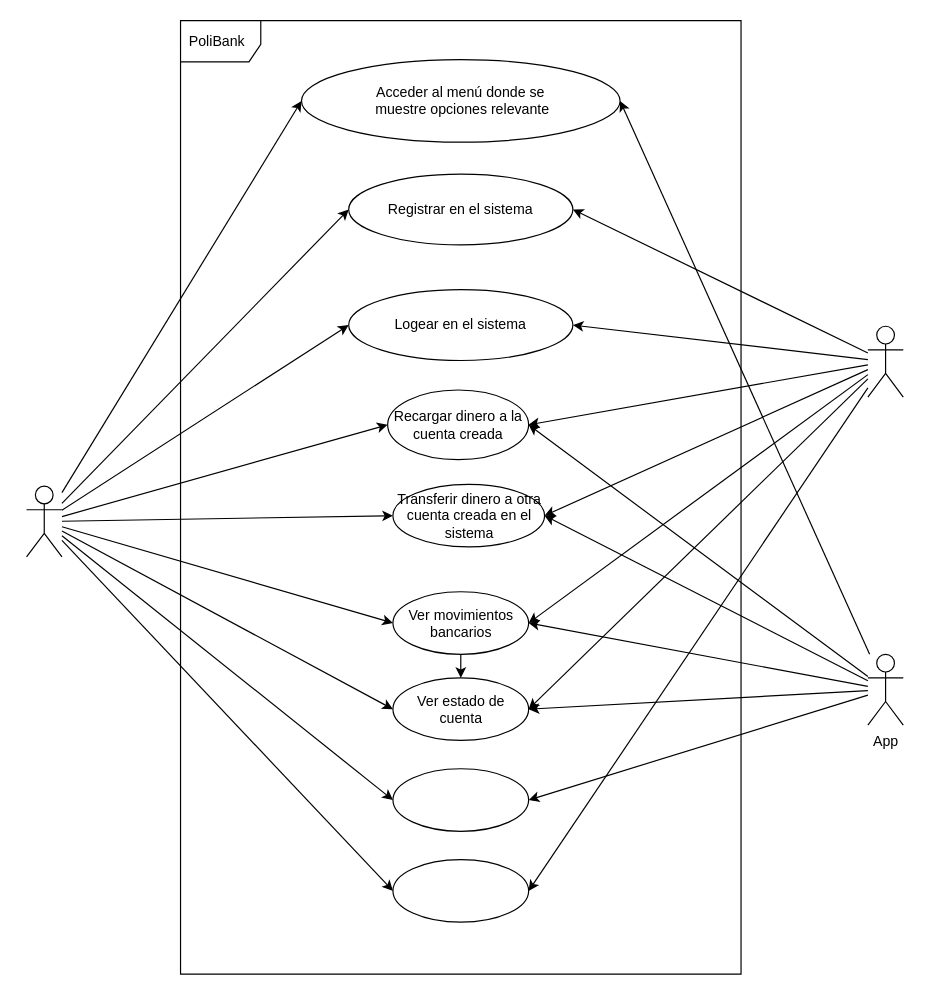
This 936x995 diagram has some shape labels left out. The shapes that lost their labels are listed below. From the top down, each one's centre as x and y in pixels, then its label:
pixel 885 361: Database
pixel 43 521: Usuario
pixel 460 799: Imprimir estado de cuenta
pixel 460 890: Cambiar contraseña
